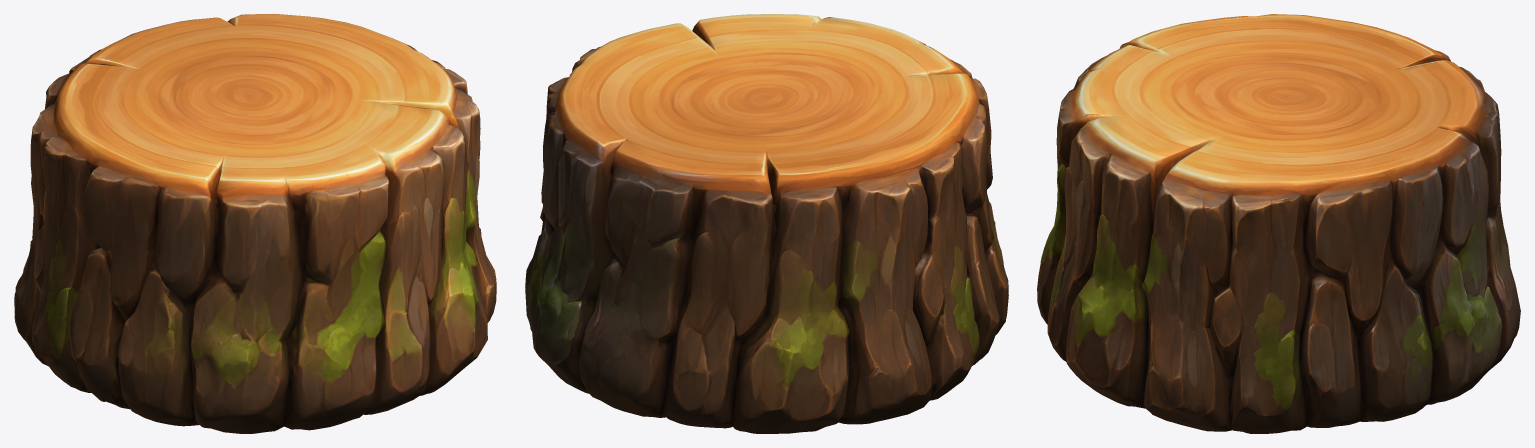
File: Kit_W_LogStool_HD_src.glb
The picture shows the model from 3 angles, left to right: view 1: azimuth 30°, elevation 25°; view 2: azimuth 150°, elevation 25°; view 3: azimuth 270°, elevation 25°; orthographic projection.
Parts seen in each view (by area): view 1: tripo_node_647151a0-3b77-49a7-8bf1-668298139290; view 2: tripo_node_647151a0-3b77-49a7-8bf1-668298139290; view 3: tripo_node_647151a0-3b77-49a7-8bf1-668298139290.
Part boxes in pixels (left/top/right/bottom): tripo_node_647151a0-3b77-49a7-8bf1-668298139290: left=14, top=14, right=496, bottom=433; tripo_node_647151a0-3b77-49a7-8bf1-668298139290: left=525, top=14, right=1008, bottom=433; tripo_node_647151a0-3b77-49a7-8bf1-668298139290: left=1037, top=14, right=1520, bottom=433.
Bounding box in the file's own units: 0.9779 × 0.5542 × 0.9799.
Materials: 1 (1 with a texture image).
